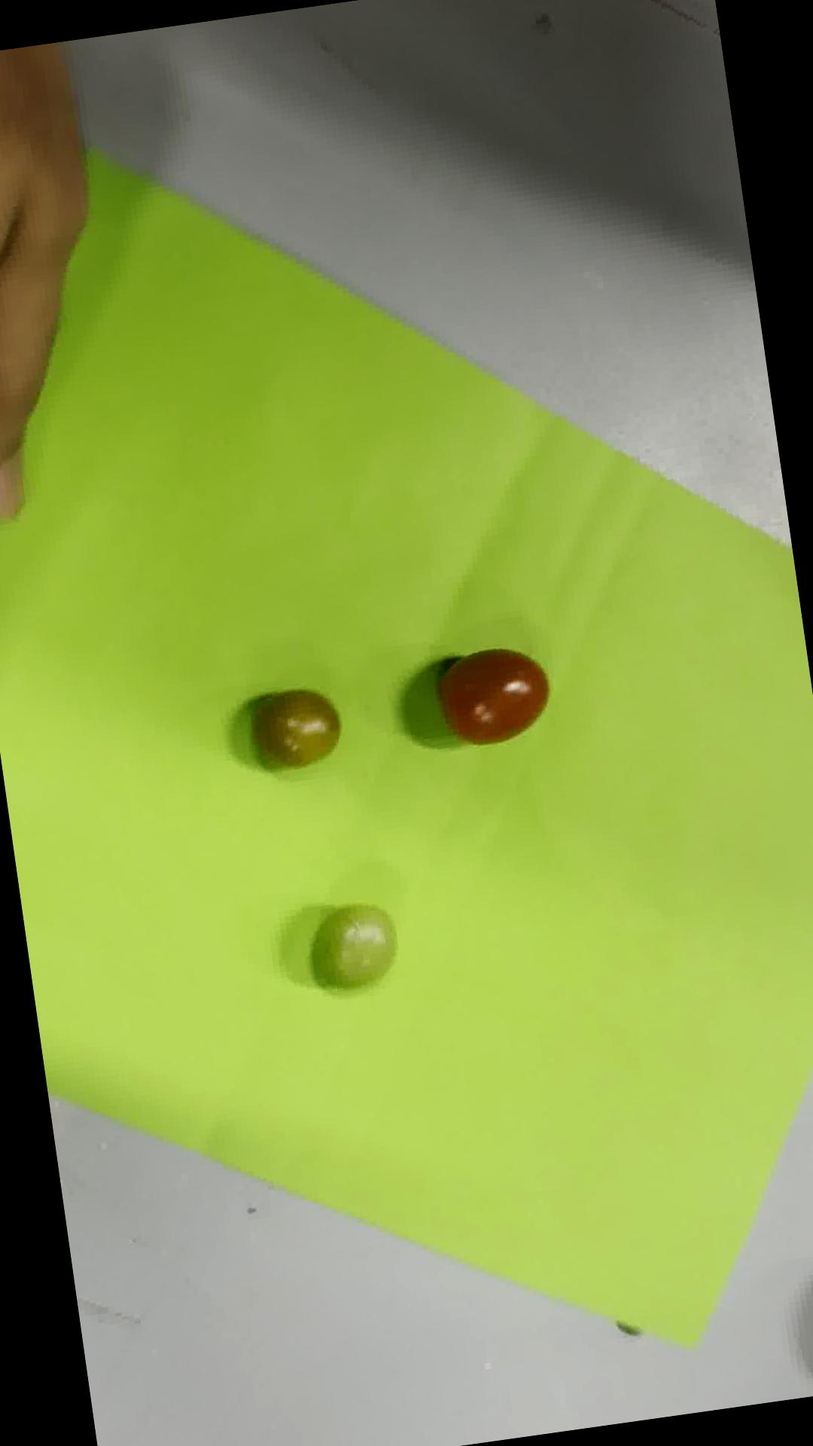green_cherry_tomato: (314, 904, 396, 988)
red_cherry_tomato: (439, 649, 549, 744)
yellow_cherry_tomato: (253, 689, 340, 767)
